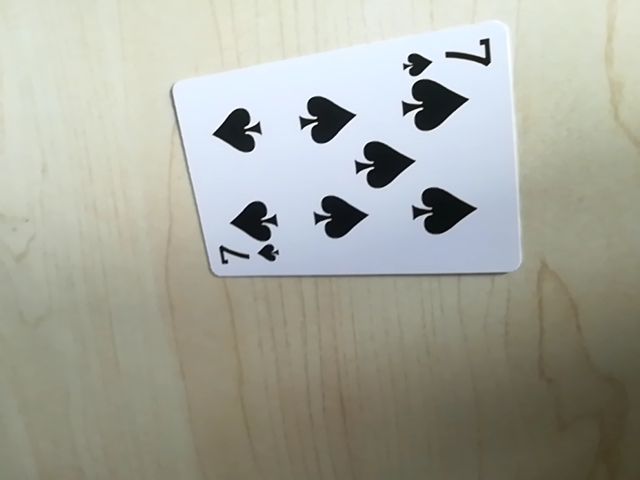ht 7: (397, 30, 502, 76), (210, 239, 285, 272)
